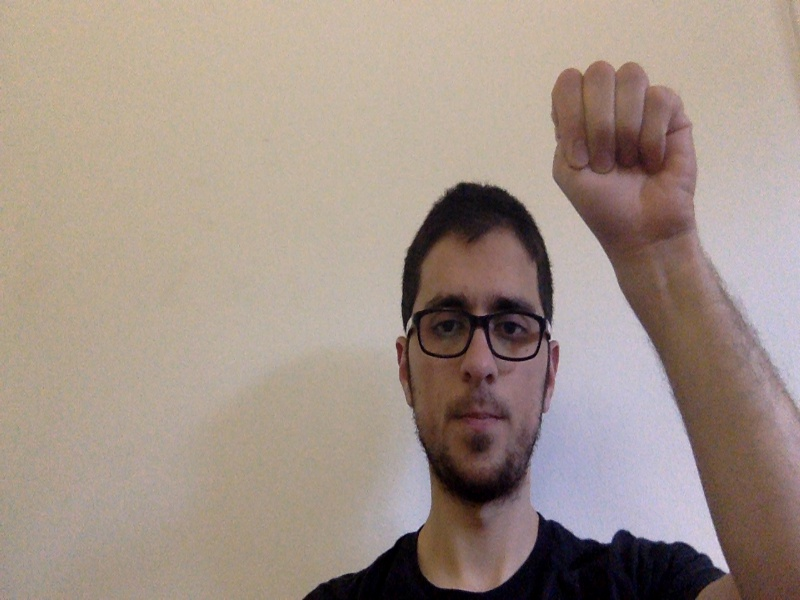0-hand: (551, 63, 698, 241)
